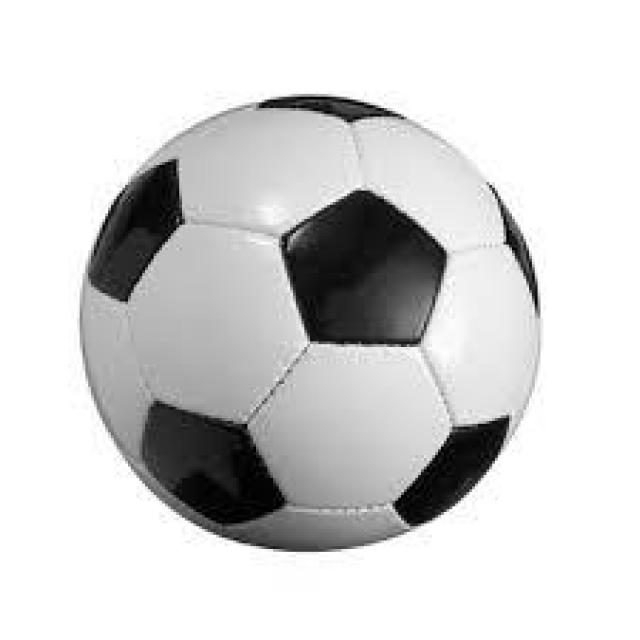Soccer Ball: (82, 82, 544, 552)
